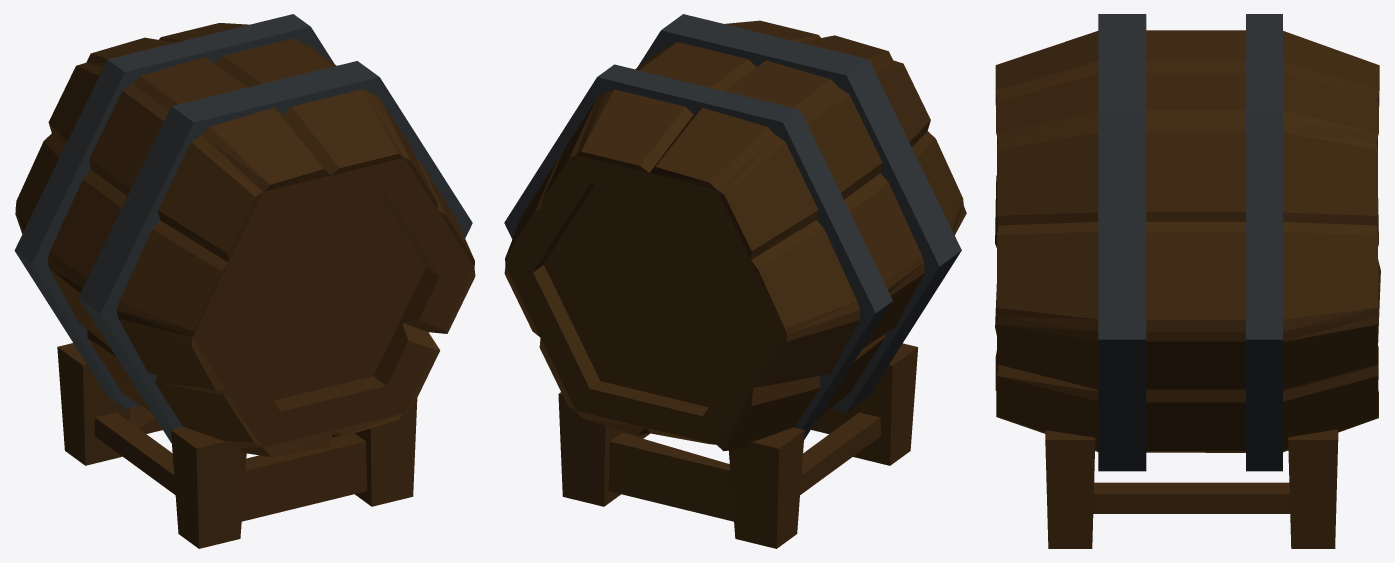
Rendered from barrel_onstand.fbx.
3 views of the same model, side by side, from view 1: azimuth 30°, elevation 25°; view 2: azimuth 150°, elevation 25°; view 3: azimuth 270°, elevation 25° (orthographic). The views are drawn at different scales.
Parts seen in each view (by area): view 1: barrel_onstand; view 2: barrel_onstand; view 3: barrel_onstand.
Boxes of the visible parts, x1,y1,x2,y2 form: barrel_onstand: (14,14,475,548); barrel_onstand: (504,14,966,548); barrel_onstand: (995,14,1380,548).
Size of the model in its own units: 52.76 by 54.86 by 44.35.
